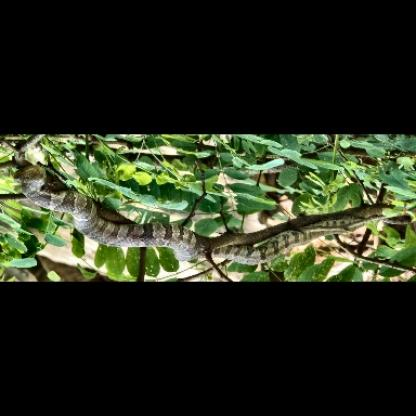Snake: (17, 161, 414, 262)
